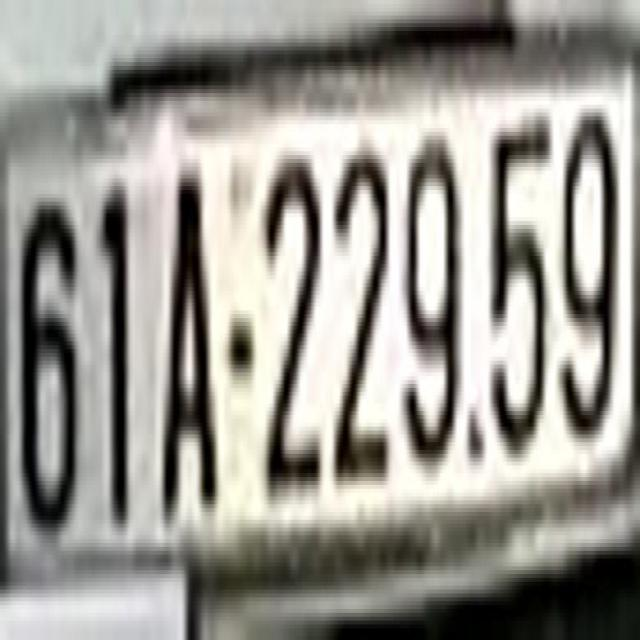1: (101, 163, 134, 512)
2: (265, 144, 321, 477), (335, 148, 389, 462)
5: (490, 85, 554, 450)
6: (19, 194, 79, 531)
9: (563, 101, 617, 434), (405, 124, 457, 462)
A: (162, 178, 216, 524)
